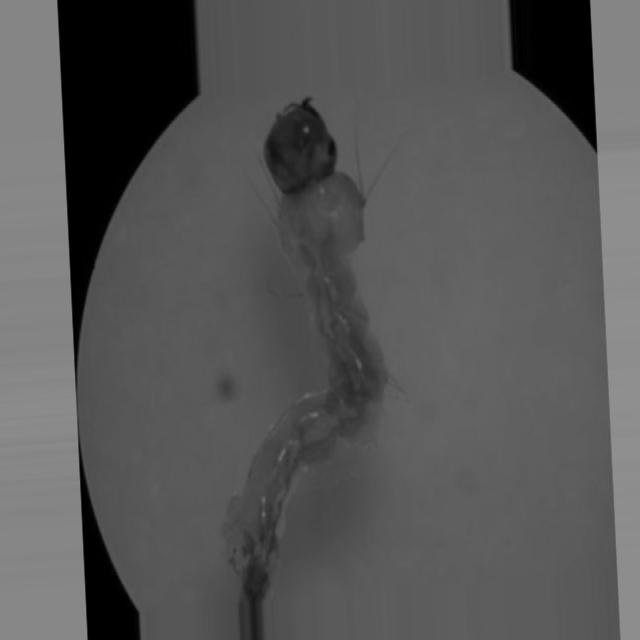larvas: (229, 107, 385, 586)
